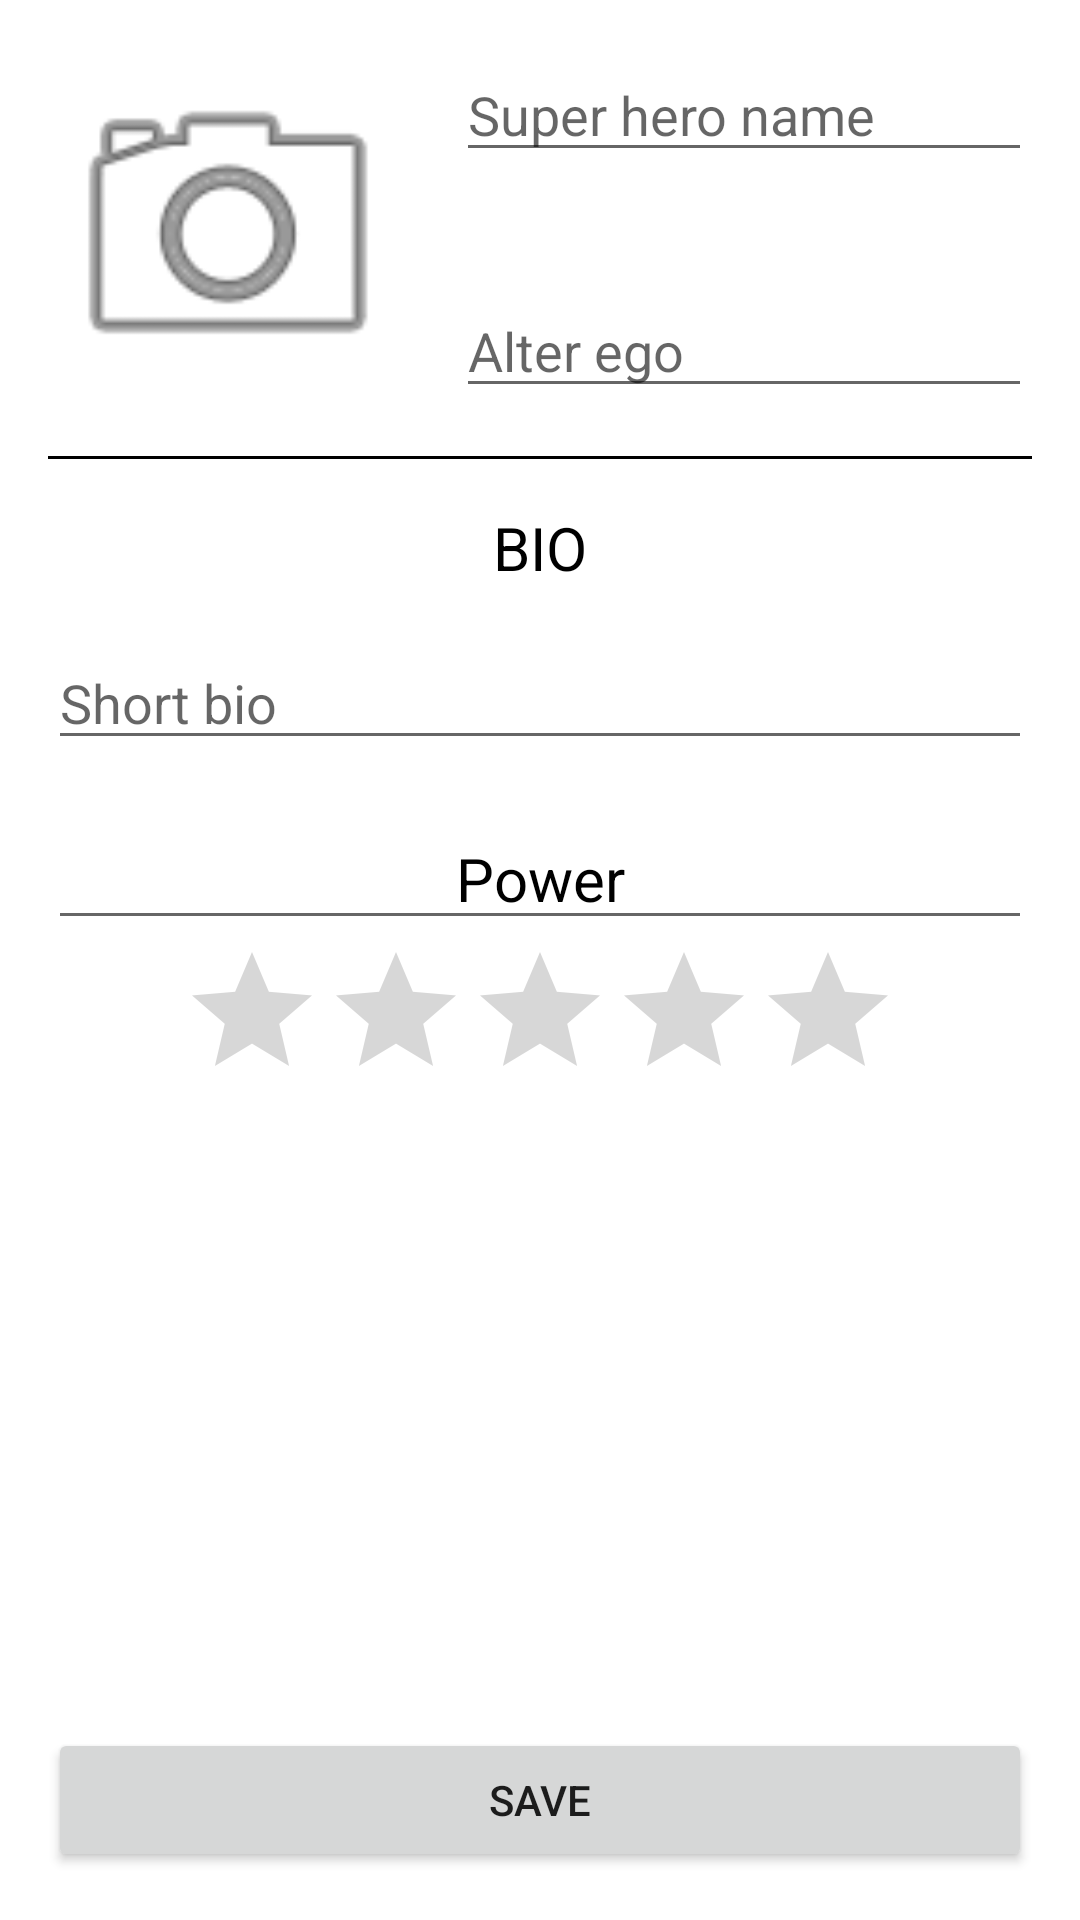

Icons on this 1080*1920 Android screen, each with its box as [x1=x1, y1=y1, x2=x2, y2=y2]:
camera: [x1=89, y1=111, x2=367, y2=333]
